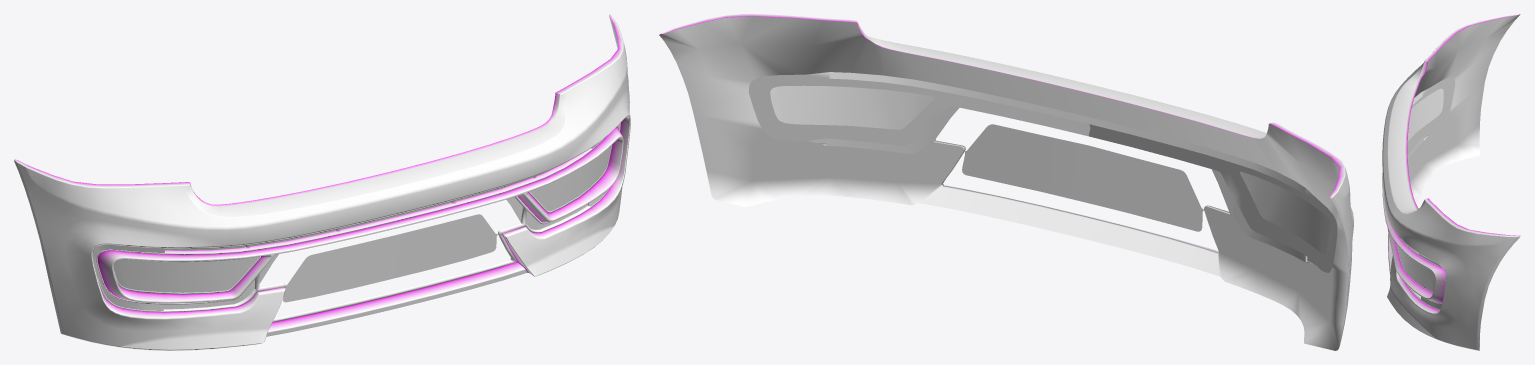
The model's file is Car_Mini_CountrymanJCW_2017_BumperF_SetE_AltB.fbx.
The picture shows the model from 3 angles, left to right: view 1: azimuth 30°, elevation 25°; view 2: azimuth 150°, elevation 25°; view 3: azimuth 270°, elevation 25°; orthographic projection. The views are drawn at different scales.
Visible parts, largest first — view 1: BumperF 6; view 2: BumperF 6; view 3: BumperF 6.
Boxes of the visible parts, box(x1,y1,x2,y2) form: BumperF 6: box(14, 14, 630, 350); BumperF 6: box(659, 14, 1353, 350); BumperF 6: box(1382, 14, 1520, 350).
Bounding box in the file's own units: 1.74 × 0.4504 × 0.4578.
